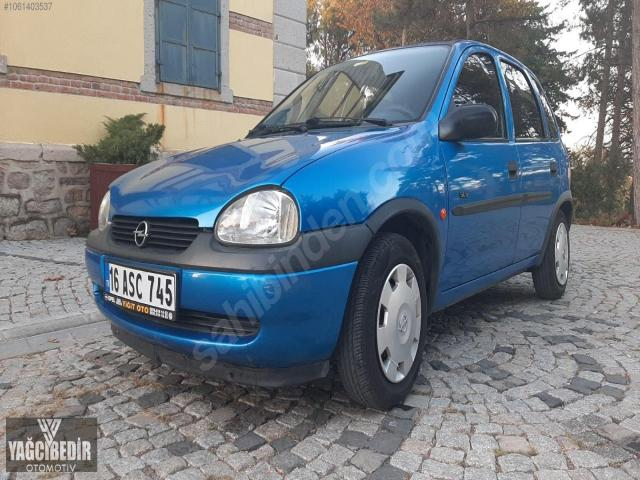plaka: (106, 263, 176, 319)
